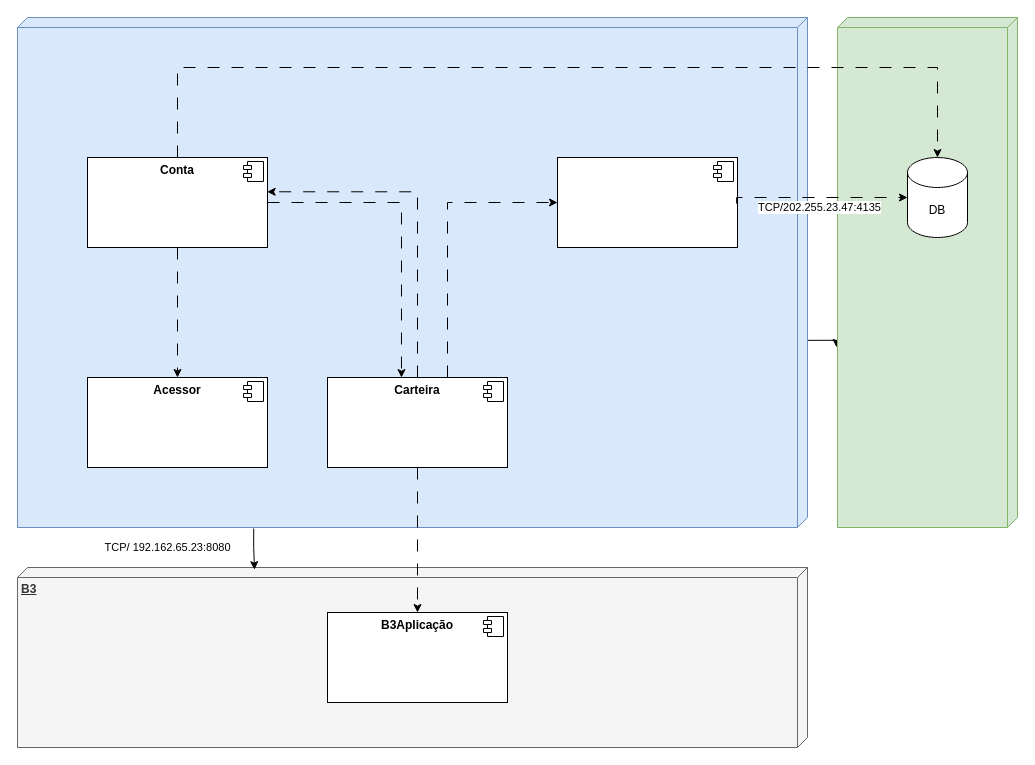
This 1035x765 diagram has some shape labels left out. Here are the shapes that lost their labels. From the top down, the box of each, then its label:
(556, 156, 738, 248): Ação
(16, 16, 808, 528): Sistema HomeBroker
(836, 16, 1018, 528): Banco de Dados
